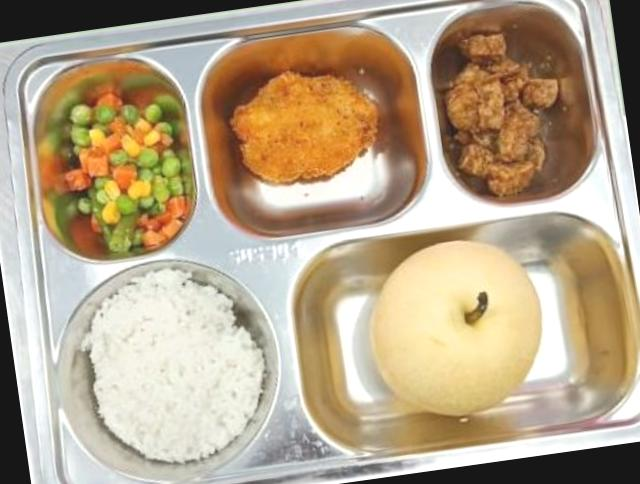ayam: (0, 168, 516, 251), (230, 72, 378, 183)
buah: (370, 240, 542, 416)
nasi: (81, 269, 265, 463)
sayur: (43, 91, 194, 252), (0, 211, 165, 256)
tempe: (444, 34, 558, 196)
